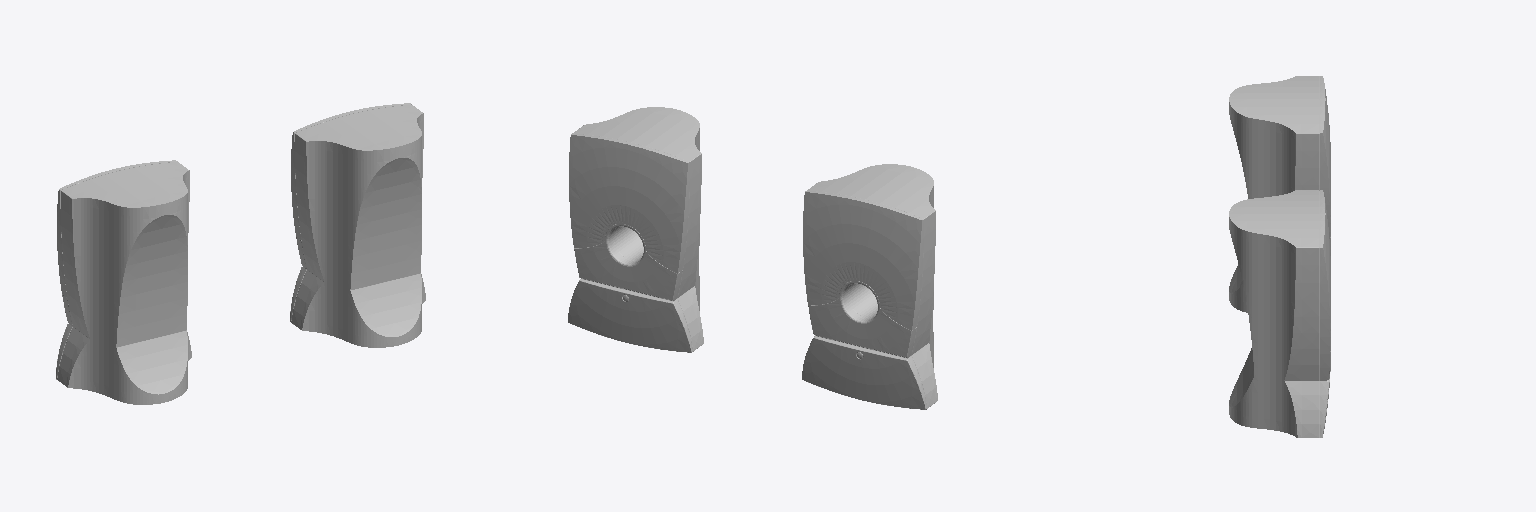
The model's file is 58pic_53ccb23e27f11.obj.
3 renders of one model, left to right at view 1: azimuth 30°, elevation 25°; view 2: azimuth 150°, elevation 25°; view 3: azimuth 270°, elevation 25°, orthographic.
Visible parts, largest first — view 1: object4 Magenta, object4_2 Magenta, object2 Orange, object2_2 Orange; view 2: object2_2 Orange, object2 Orange, object3_2 Red, object3 Red, object4 Magenta, object4_2 Magenta; view 3: object4 Magenta, object4_2 Magenta, object2 Orange, object2_2 Orange, object3 Red.
Part boxes in pixels (x1,y1,x2,y2): object4 Magenta: (291,105,425,347); object4_2 Magenta: (57,162,191,404); object2 Orange: (291,103,411,240); object2_2 Orange: (57,160,177,296); object2_2 Orange: (803,191,923,330); object2 Orange: (569,133,689,273); object3_2 Red: (802,281,926,409); object3 Red: (568,224,692,352); object4 Magenta: (573,107,703,351); object4_2 Magenta: (807,164,937,408); object4 Magenta: (1229,190,1319,437); object4_2 Magenta: (1229,76,1319,312); object2 Orange: (1320,190,1330,353); object2_2 Orange: (1320,76,1330,238); object3 Red: (1320,351,1330,437).
Bounding box in the file's own units: 156 × 82.58 × 38.4.